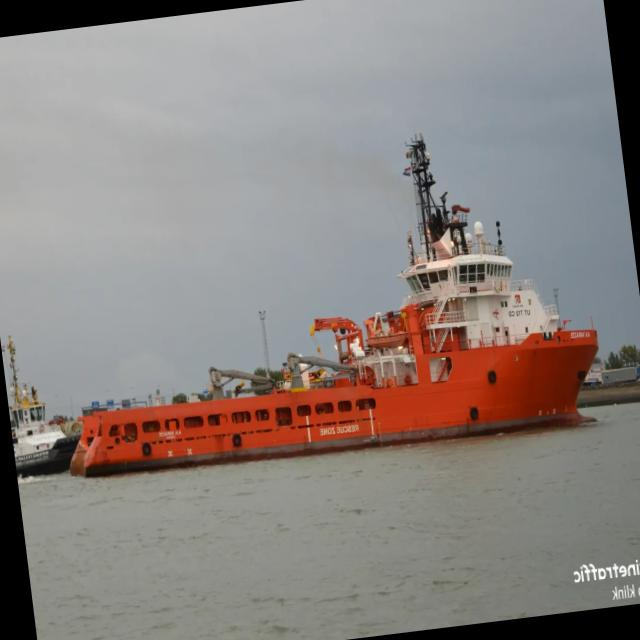Offshore: (71, 136, 598, 475)
